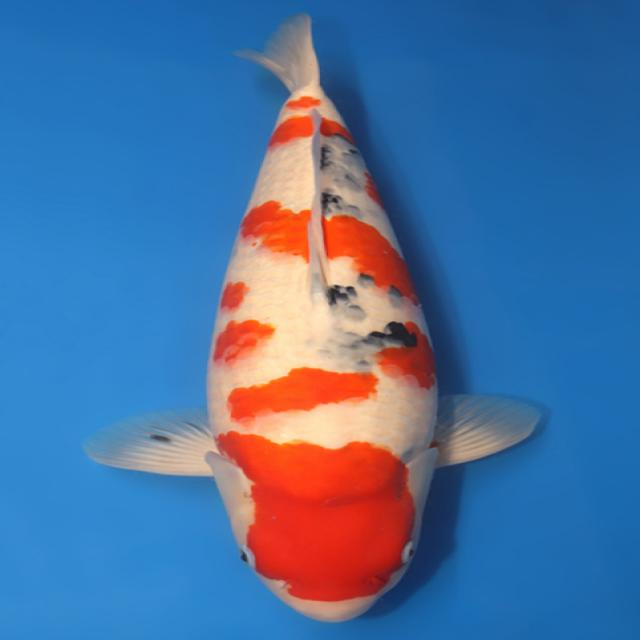Sanke: (82, 12, 542, 623)
